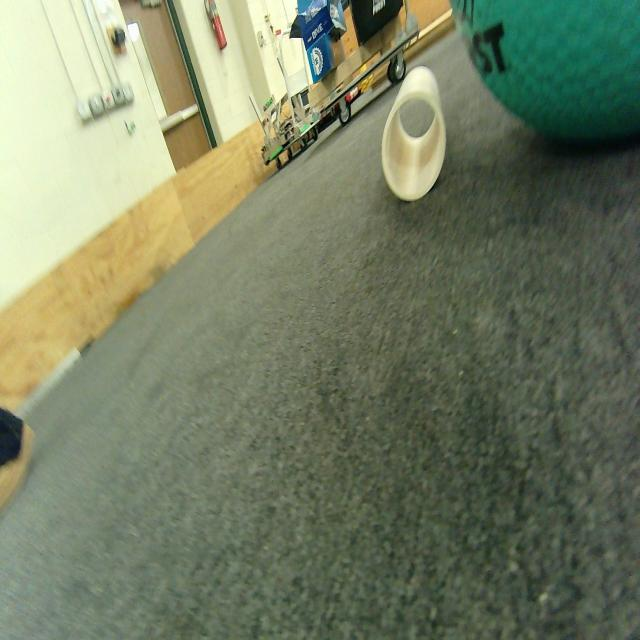algae: (450, 0, 640, 145)
coral: (381, 66, 447, 201)
